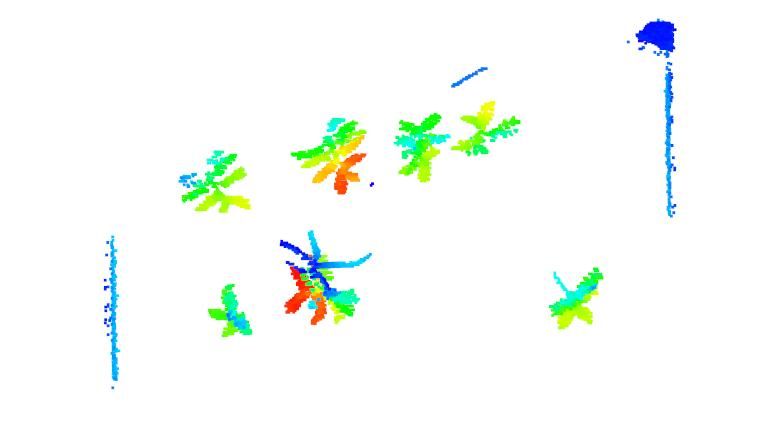chickpea: (277, 231, 372, 326), (288, 114, 372, 198), (177, 146, 254, 215), (450, 99, 523, 161), (394, 112, 452, 185), (545, 266, 606, 331), (205, 282, 256, 339)
